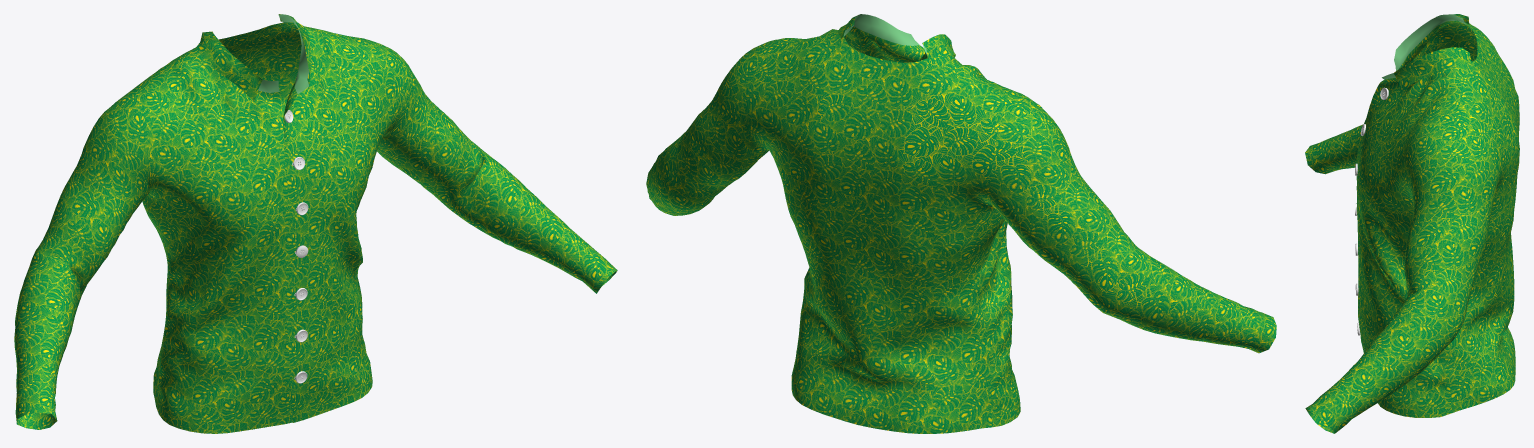
The model's file is Baju_Panjang.fbx.
The picture shows the model from 3 angles, left to right: view 1: azimuth 30°, elevation 25°; view 2: azimuth 150°, elevation 25°; view 3: azimuth 270°, elevation 25°; orthographic projection. The views are drawn at different scales.
Visible parts, largest first — view 1: Baju_Panjang.005; view 2: Baju_Panjang.005; view 3: Baju_Panjang.005.
Part boxes in pixels (bbox=[...]): Baju_Panjang.005: bbox=[14, 14, 617, 433]; Baju_Panjang.005: bbox=[646, 14, 1276, 433]; Baju_Panjang.005: bbox=[1305, 14, 1519, 433].
Bounding box in the file's own units: 1060 × 619 × 349.
4 materials, 2 textured.
